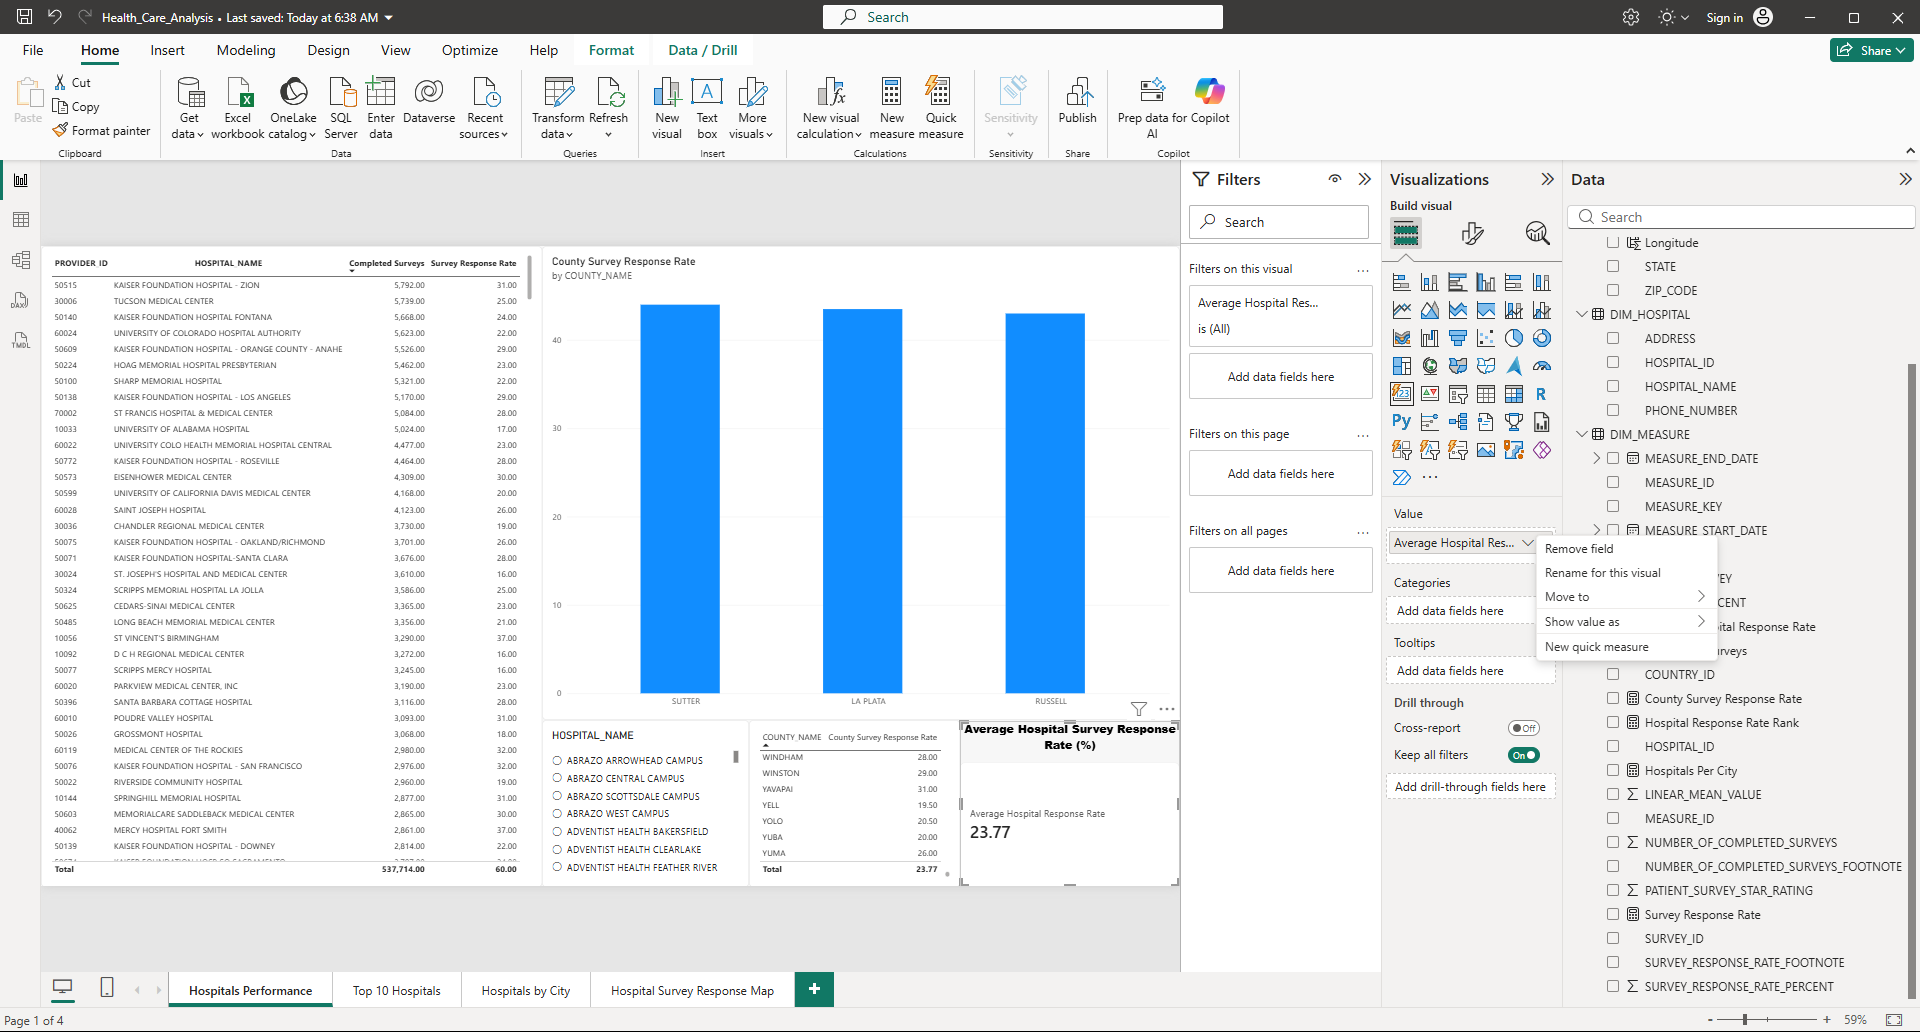

This screenshot's page, from the dashboard's own definition file:
{"tool":"powerbi","page":{"name":"Hospitals Performance","canvas":[1920,1080],"ordinal":0},"visuals":[{"type":"tableEx","fields":{"Values":["DIM_HOSPITAL.PROVIDER_ID","DIM_HOSPITAL.HOSPITAL_NAME","FACT_PATIENT_SURVEY.Completed Surveys","FACT_PATIENT_SURVEY.Survey Response Rate"]},"box":[0,0,844.5,1080.5],"z":0},{"type":"clusteredColumnChart","fields":{"Category":["DIM_COUNTRY.COUNTY_NAME"],"Y":["FACT_PATIENT_SURVEY.County Survey Response Rate"]},"box":[844.5,0,1075.5,799],"z":1000},{"type":"listSlicer","fields":{"Values":["DIM_HOSPITAL.HOSPITAL_NAME"]},"box":[844.5,799,348.9,281.5],"z":2000},{"type":"tableEx","fields":{"Values":["DIM_COUNTRY.COUNTY_NAME","FACT_PATIENT_SURVEY.County Survey Response Rate"]},"box":[1193.5,799,355.7,281.5],"z":3000},{"type":"cardVisual","title":"Average Hospital Survey Response Rate (%)","fields":{"Data":["FACT_PATIENT_SURVEY.Average Hospital Response Rate"]},"box":[1549.1,800.7,370.9,279.8],"z":3001}]}

Visuals, with their boxes on the page's 1920x1080 design canvas (x1, y1, x2, y2). These are canvas units, not pixel positions in the 1920x1032 screenshot, which may show the page scaled, cropped or inside an application window:
tableEx - DIM_HOSPITAL.PROVIDER_ID x DIM_HOSPITAL.HOSPITAL_NAME: (0, 0, 844, 1080)
clusteredColumnChart - DIM_COUNTRY.COUNTY_NAME x FACT_PATIENT_SURVEY.County Survey Response Rate: (844, 0, 1920, 799)
listSlicer - DIM_HOSPITAL.HOSPITAL_NAME: (844, 799, 1193, 1080)
tableEx - DIM_COUNTRY.COUNTY_NAME x FACT_PATIENT_SURVEY.County Survey Response Rate: (1194, 799, 1549, 1080)
"Average Hospital Survey Response Rate (%)" cardVisual: (1549, 801, 1920, 1080)
